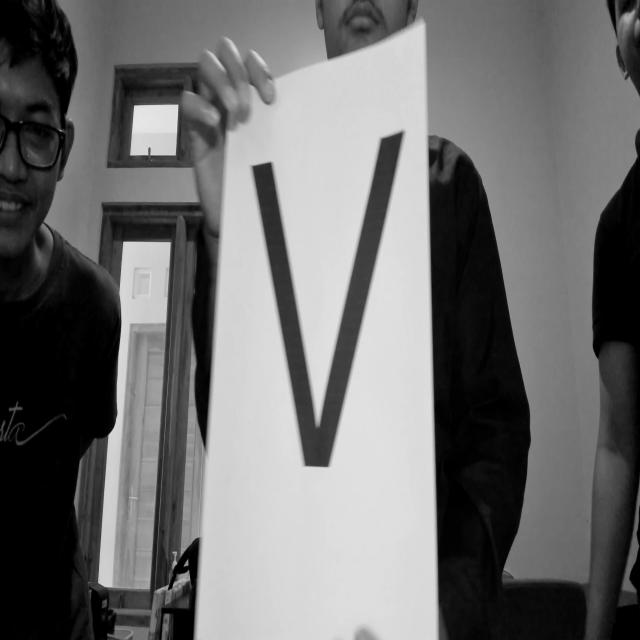v: (247, 114, 422, 486)
